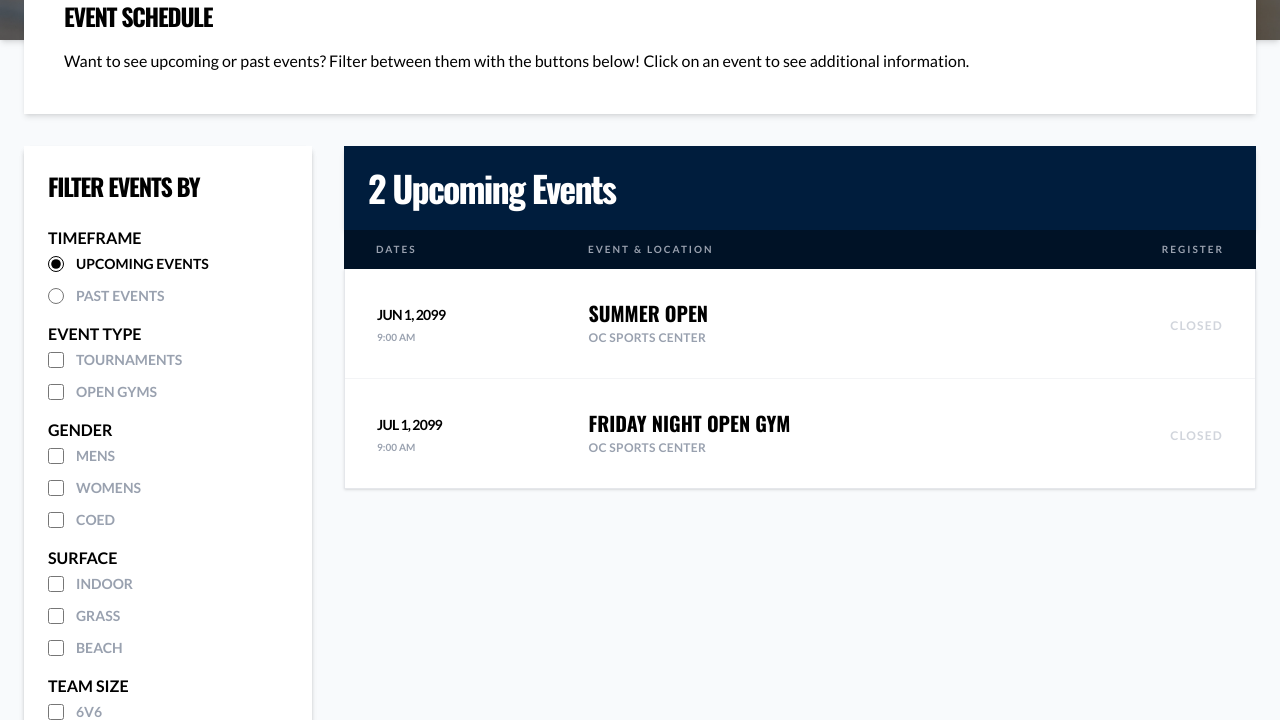
it: EventList › reset filters button › clears all checkbox filters when clicked
The image size is (1280, 720).
(page scrolled)
Step 1. Click the checkbox labelled "Tournaments" → click(56, 360), box left=48, top=352, right=64, bottom=368
(page scrolled)
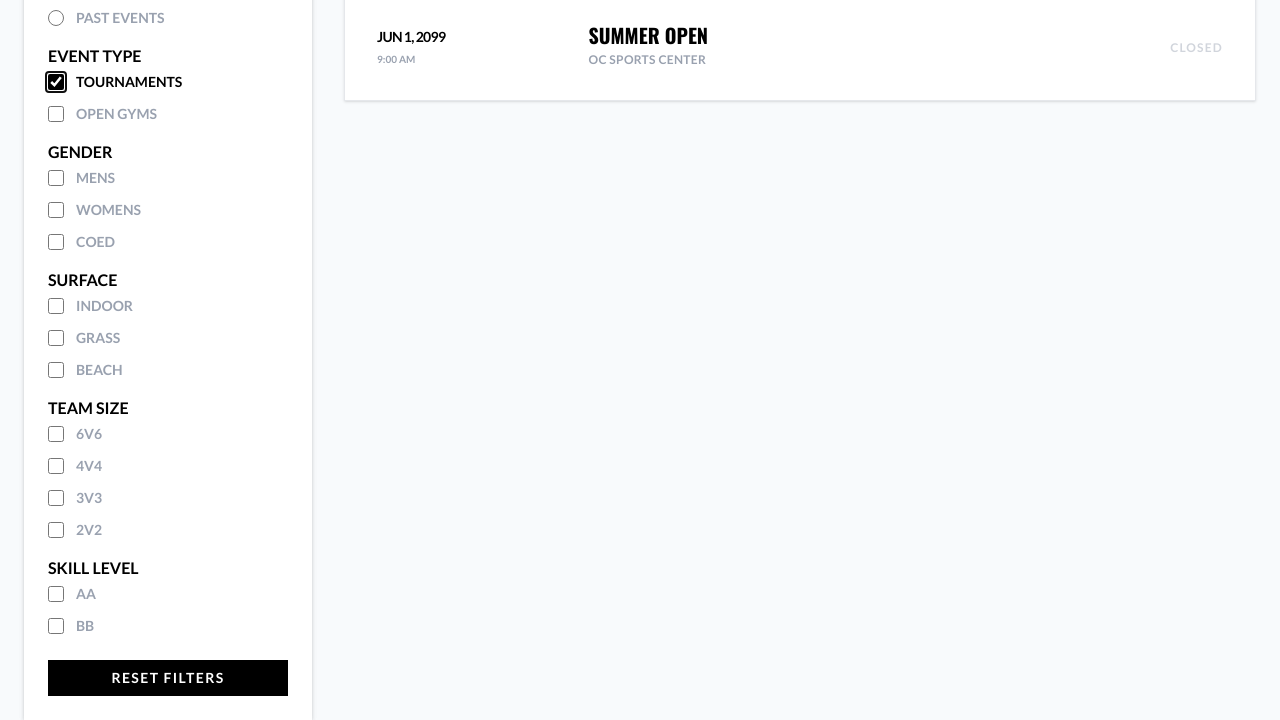
Expected: the link "Friday Night Open Gym" is gone
Step 2. Click the button "Reset Filters" → click(168, 678), box left=48, top=660, right=288, bottom=696
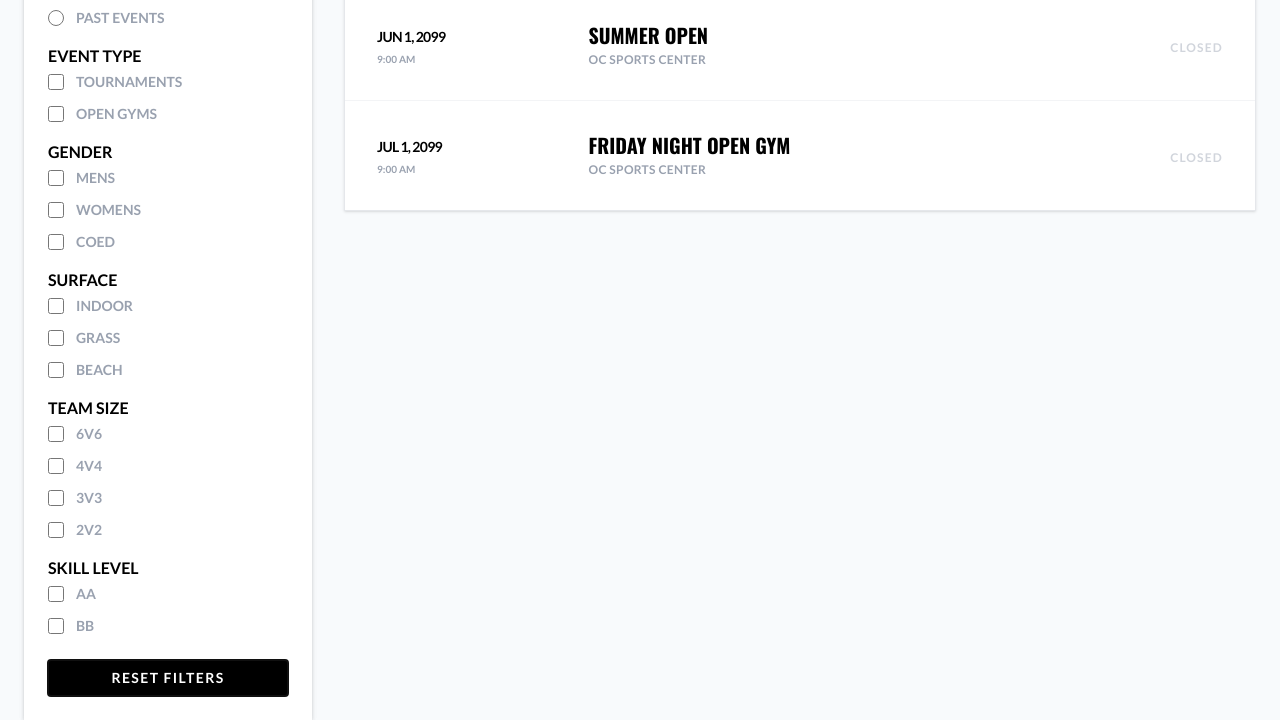
Expected: the heading "Summer Open" is shown, left=588, top=20, right=708, bottom=50
Expected: the heading "Friday Night Open Gym" is shown, left=588, top=130, right=790, bottom=160
